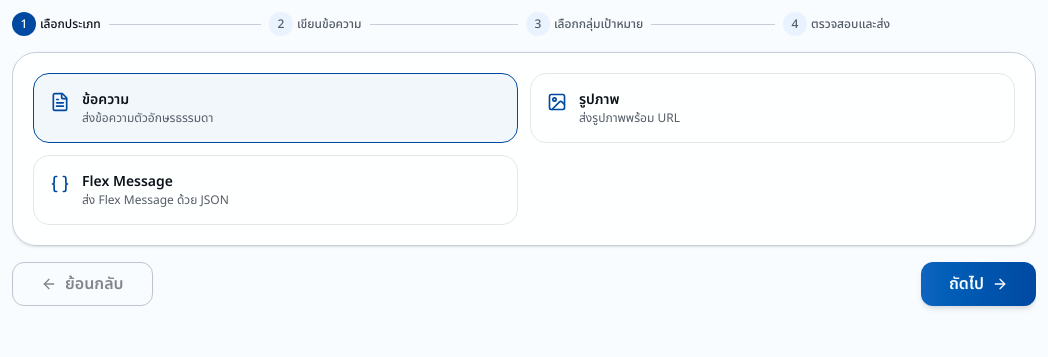
BroadcastWizardClient ตัวช่วยสร้าง 4 ขั้น › เลือกประเภทแล้วไปขั้นเขียนข้อความ
Click the button "รูปภาพ ส่งรูปภาพพร้อม URL": point(599, 100) [530,73,1015,143]
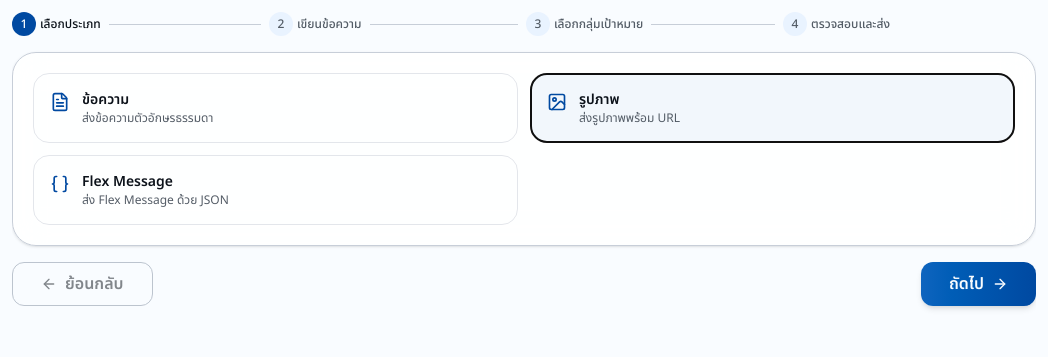
Click the button "ถัดไป": point(978, 284) [921,262,1036,306]
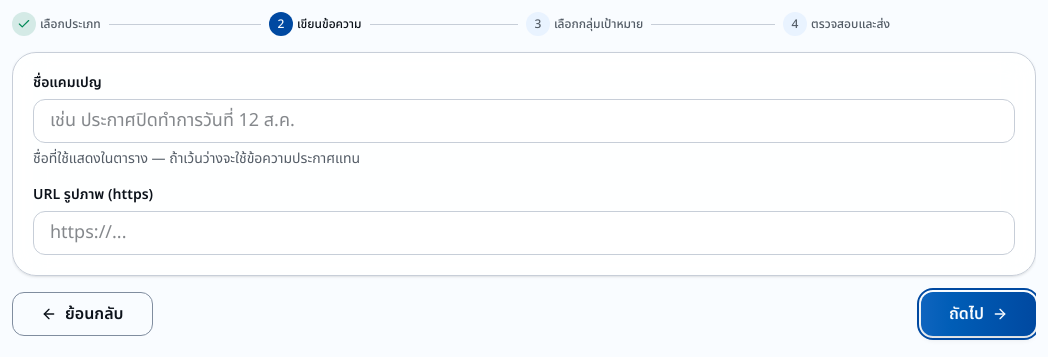
Result: the field labelled "URL รูปภาพ (https)" is shown at [33,211,1015,255]
